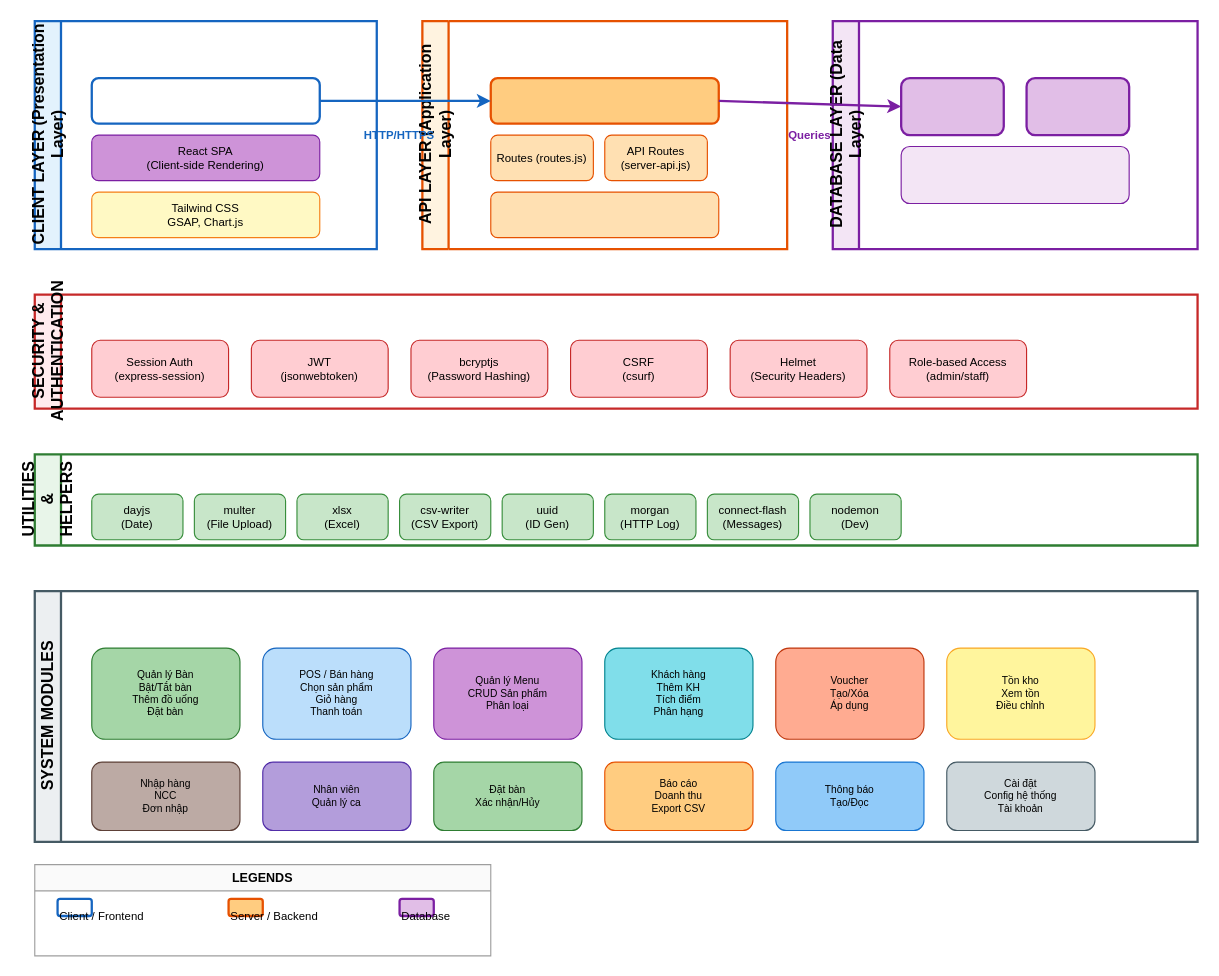
This 1219x976 diagram has some shape labels left out. The shapes that lost their labels are listed below. From the top down, each one's centre as x and y in pixels, then its label:
(x=205, y=100): 🌐 Web Browser
(x=604, y=100): Express.js Server
(x=951, y=106): SQLite (better-sqlite3)
(x=1077, y=106): SQL Server (mssql - Optional)
(x=1014, y=174): db.js db-sqlserver.js db.config.js
(x=604, y=214): Middleware Auth | Roles | CSRF
